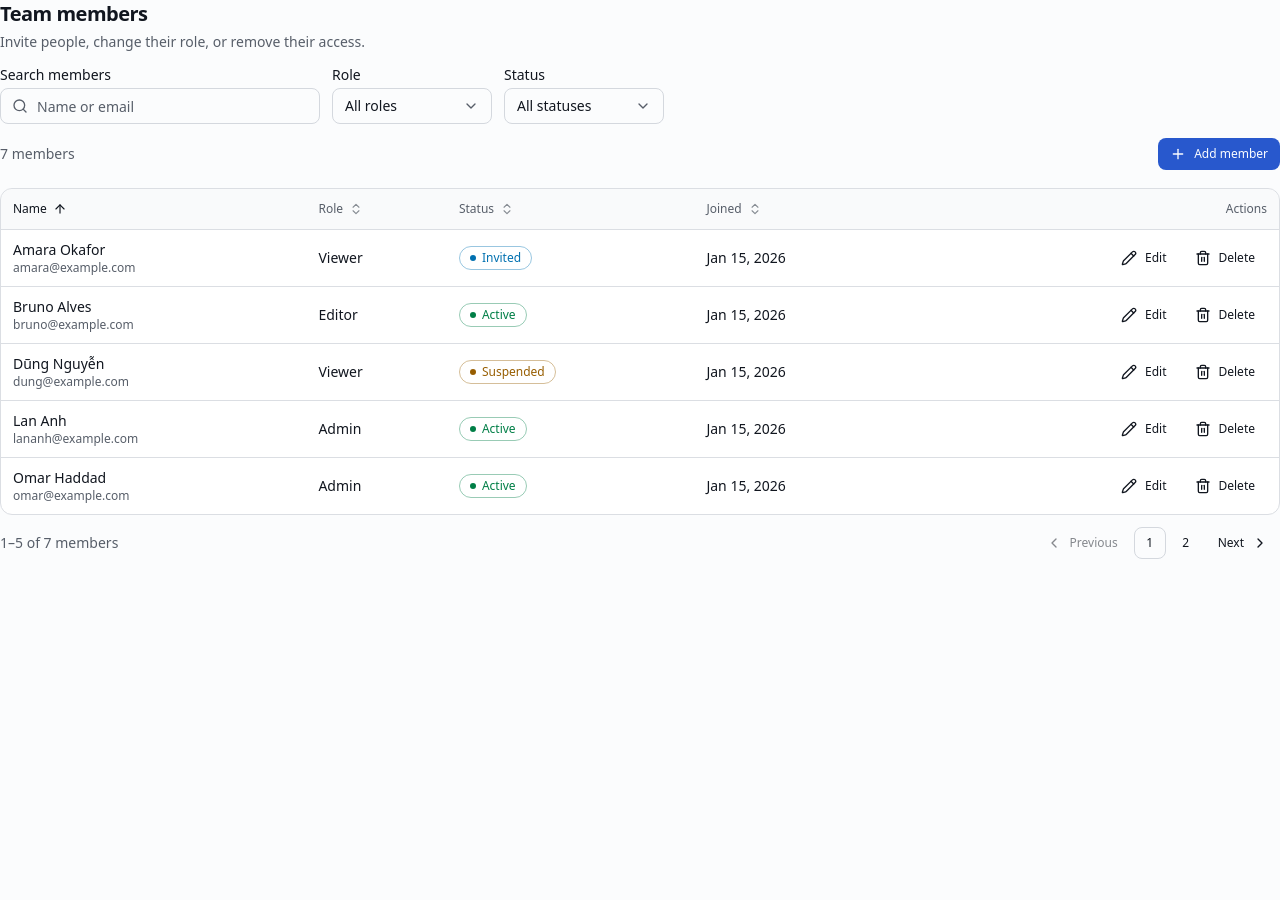
Test: CrudManagementPage › adding a member › starts with the least access
Click the button "Add member" at x=1219, y=154, box [1158,138,1279,170]
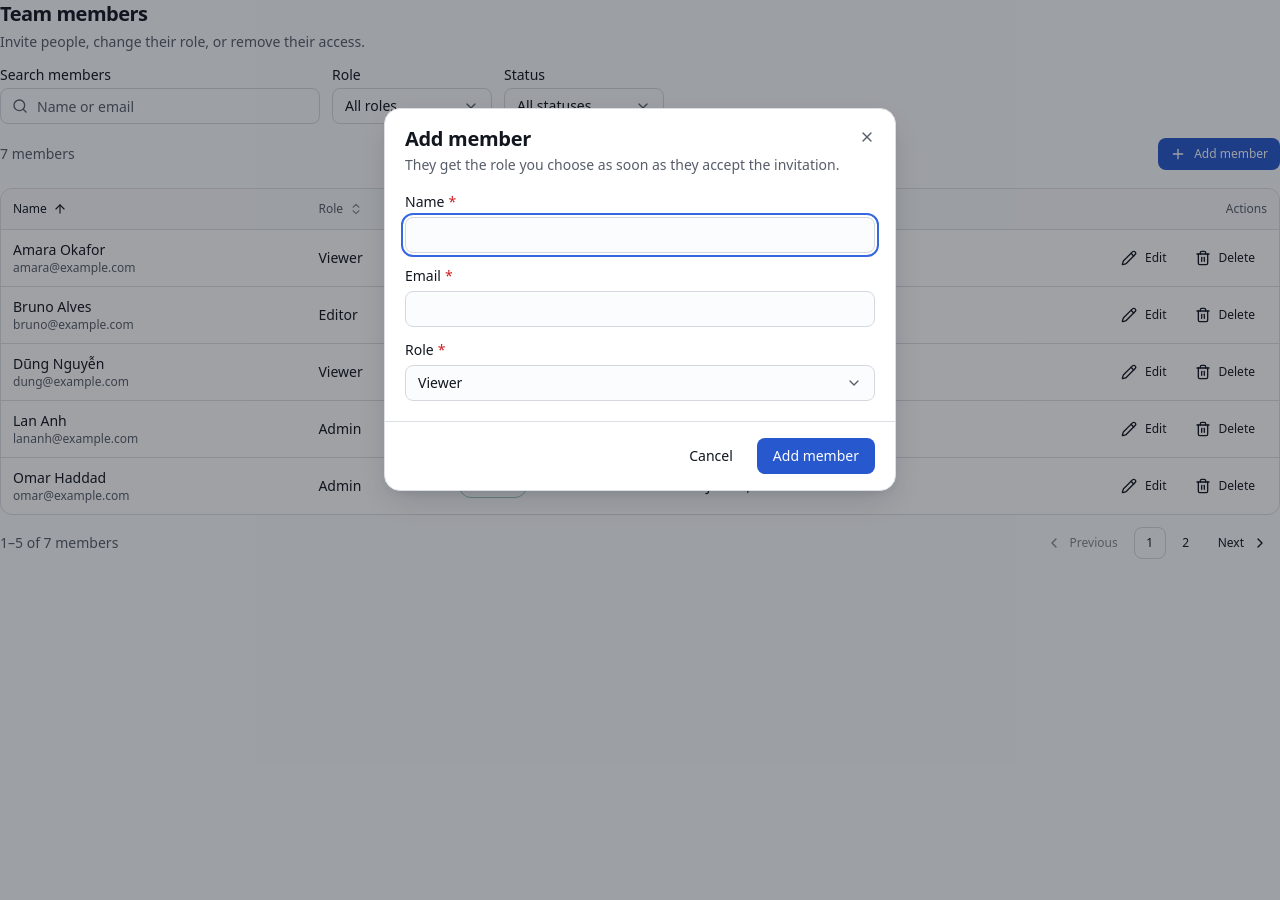
Expected: the dropdown named "Role" reads "Viewer", [405,365,875,401]
